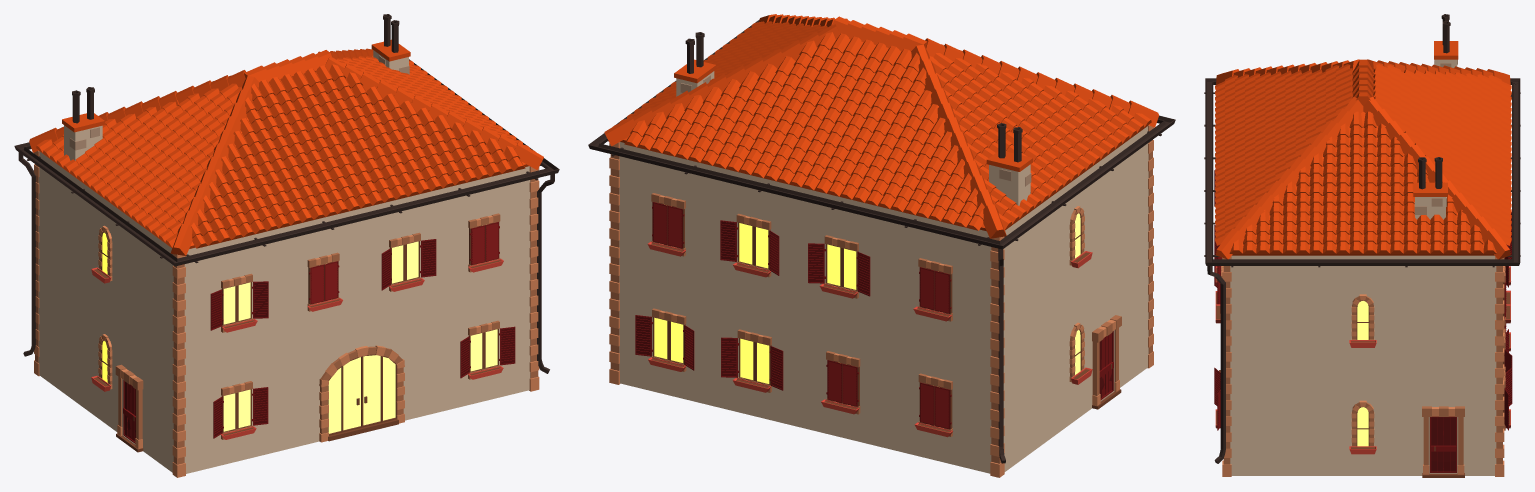
File: house_2.glb
3 renders of one model, left to right at view 1: azimuth 30°, elevation 25°; view 2: azimuth 150°, elevation 25°; view 3: azimuth 270°, elevation 25°, orthographic. The views are drawn at different scales.
Parts seen in each view (by area): view 1: house 2_brick 1_0; view 2: house 2_brick 1_0; view 3: house 2_brick 1_0.
Part boxes in pixels (x1=…): house 2_brick 1_0: x1=14, y1=14, x2=559, y2=477; house 2_brick 1_0: x1=588, y1=14, x2=1175, y2=477; house 2_brick 1_0: x1=1204, y1=14, x2=1520, y2=477.
Size of the model in its own units: 13.59 by 10.78 by 9.83.
